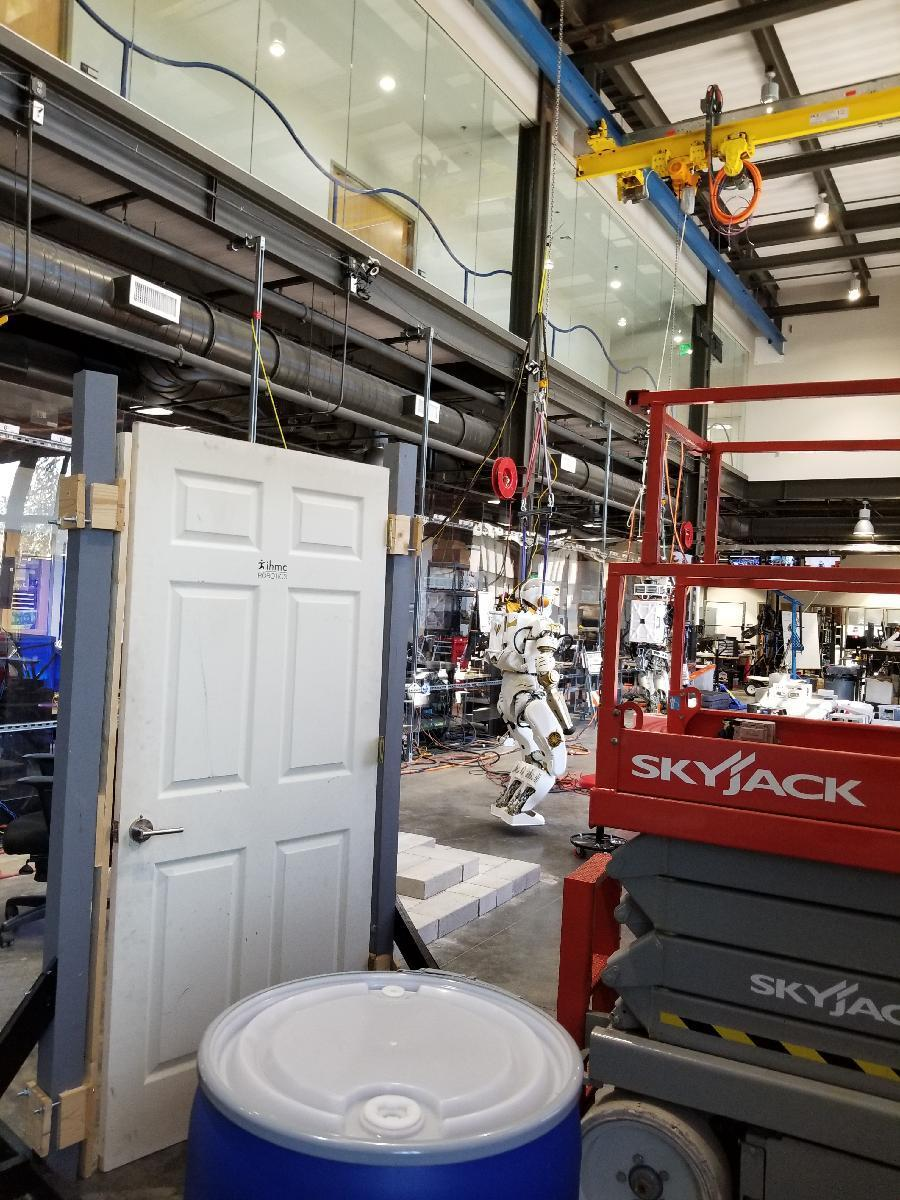door: (136, 425, 374, 1154)
handle: (126, 816, 186, 846)
